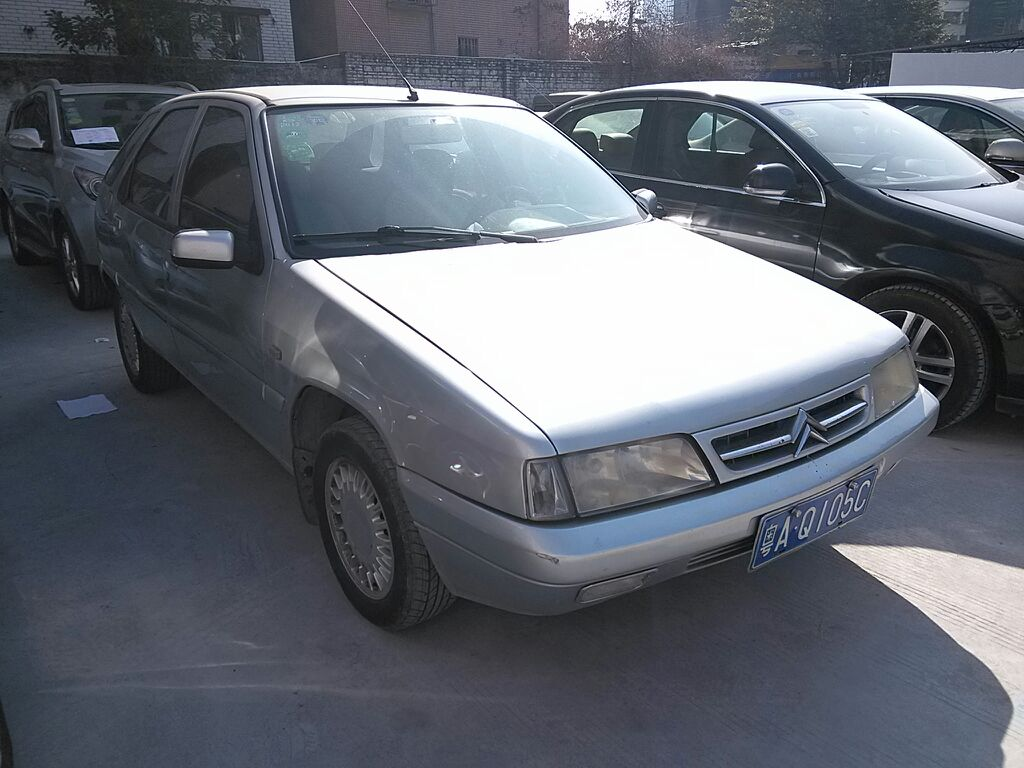car: (99, 70, 988, 608)
